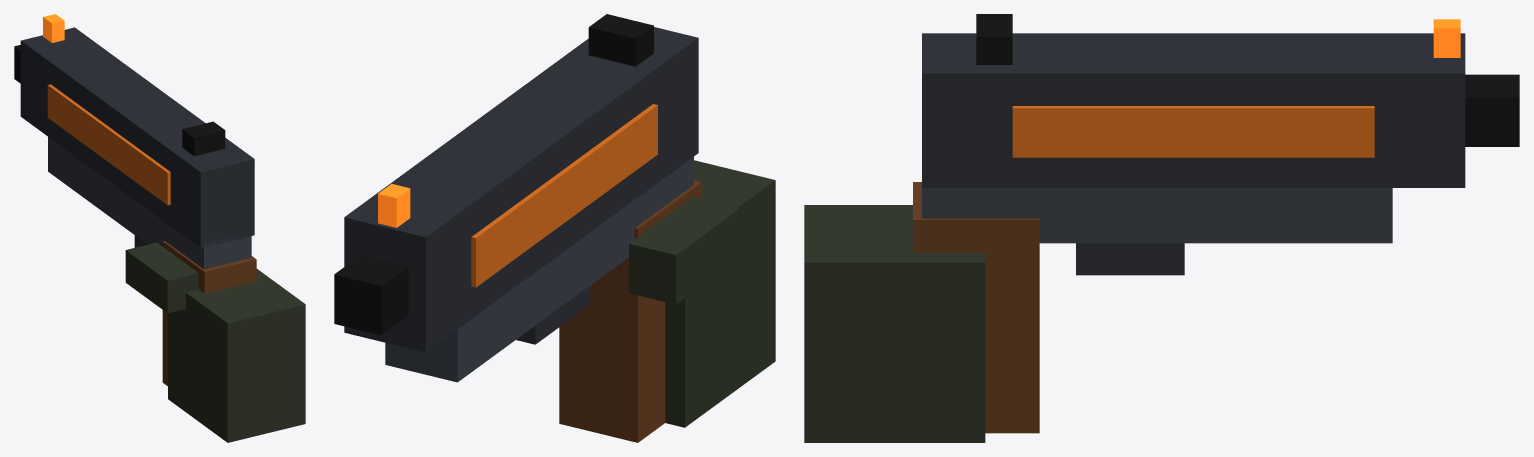
File: pistola.glb
3 renders of one model, left to right at view 1: azimuth 30°, elevation 25°; view 2: azimuth 150°, elevation 25°; view 3: azimuth 270°, elevation 25°, orthographic. The views are drawn at different scales.
Parts seen in each view (by area): view 1: Corredera, Mano, Armazon, FranjaD, Pulgar, Empunadura, MiraTrasera, MiraDelantera; view 2: Corredera, Mano, Empunadura, Armazon, FranjaD, Pulgar, PuntaCanon, MiraTrasera, Guardamonte, MiraDelantera; view 3: Corredera, Mano, Armazon, FranjaI, Empunadura, PuntaCanon, Guardamonte, MiraTrasera, MiraDelantera.
Part boxes in pixels (bbox=[...]): Corredera: bbox=[20, 27, 254, 248]; Mano: bbox=[168, 269, 305, 442]; Armazon: bbox=[48, 137, 251, 269]; FranjaD: bbox=[47, 84, 170, 205]; Pulgar: bbox=[125, 242, 198, 313]; Empunadura: bbox=[162, 241, 256, 385]; MiraTrasera: bbox=[182, 121, 225, 156]; MiraDelantera: bbox=[43, 14, 64, 42]; Corredera: bbox=[344, 27, 698, 352]; Mano: bbox=[665, 160, 775, 427]; Empunadura: bbox=[559, 180, 701, 442]; Armazon: bbox=[385, 156, 693, 382]; FranjaD: bbox=[471, 104, 657, 287]; Pulgar: bbox=[629, 197, 739, 304]; PuntaCanon: bbox=[334, 254, 408, 335]; MiraTrasera: bbox=[588, 14, 653, 66]; Guardamonte: bbox=[516, 286, 589, 344]; MiraDelantera: bbox=[378, 183, 410, 227]; Corredera: bbox=[922, 33, 1465, 187]; Mano: bbox=[804, 205, 985, 442]; Armazon: bbox=[922, 188, 1392, 243]; FranjaI: bbox=[1012, 106, 1374, 157]; Empunadura: bbox=[913, 182, 1039, 433]; PuntaCanon: bbox=[1465, 74, 1519, 146]; Guardamonte: bbox=[1076, 243, 1184, 275]; MiraTrasera: bbox=[976, 14, 1012, 64]; MiraDelantera: bbox=[1433, 19, 1460, 57].
Bounding box in the file's own units: 0.0925 × 0.238 × 0.395.
